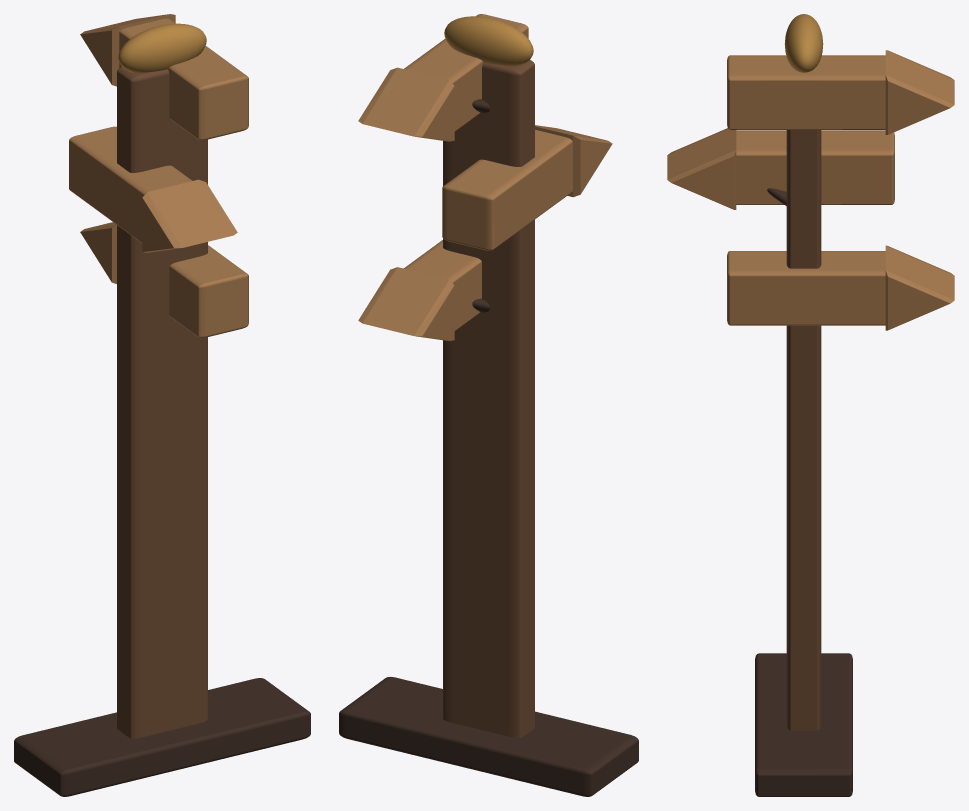
Rendered from detail_sign_post_city.glb.
3 renders of one model, left to right at view 1: azimuth 30°, elevation 25°; view 2: azimuth 150°, elevation 25°; view 3: azimuth 270°, elevation 25°, orthographic. The views are drawn at different scales.
Visible parts, largest first — view 1: wood; view 2: wood; view 3: wood.
Boxes of the visible parts, bbox=[...] form: wood: bbox=[14, 14, 310, 796]; wood: bbox=[339, 14, 638, 796]; wood: bbox=[667, 14, 954, 796].
Bounding box in the file's own units: 0.8 × 2.2 × 0.8.
